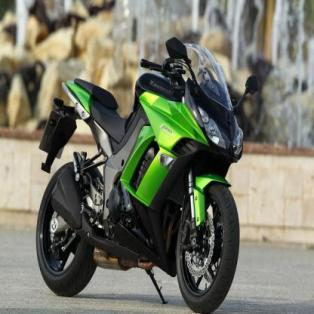Motocicleta: (34, 31, 261, 314)
